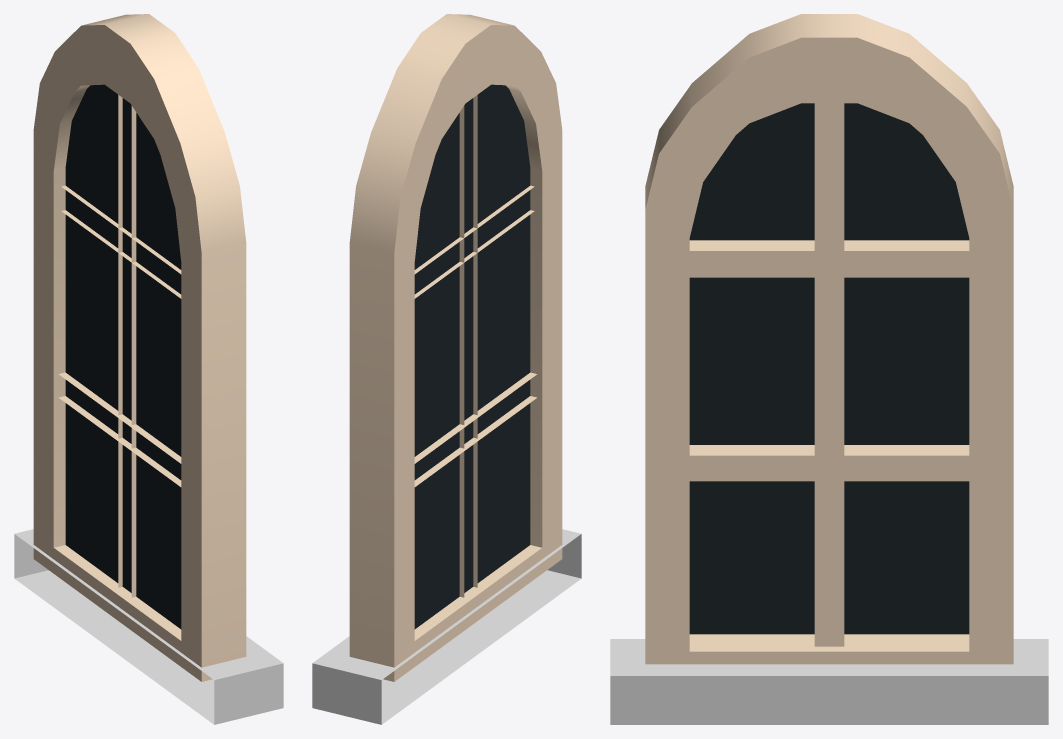
File: Window03.fbx
3 renders of one model, left to right at view 1: azimuth 30°, elevation 25°; view 2: azimuth 150°, elevation 25°; view 3: azimuth 270°, elevation 25°, orthographic. The views are drawn at different scales.
Visible parts, largest first — view 1: Window03; view 2: Window03; view 3: Window03.
Boxes of the visible parts, left/top/right/bottom form: Window03: left=14, top=14, right=283, bottom=724; Window03: left=312, top=14, right=581, bottom=724; Window03: left=610, top=14, right=1048, bottom=724.
Bounding box in the file's own units: 25.89 × 220 × 129.
